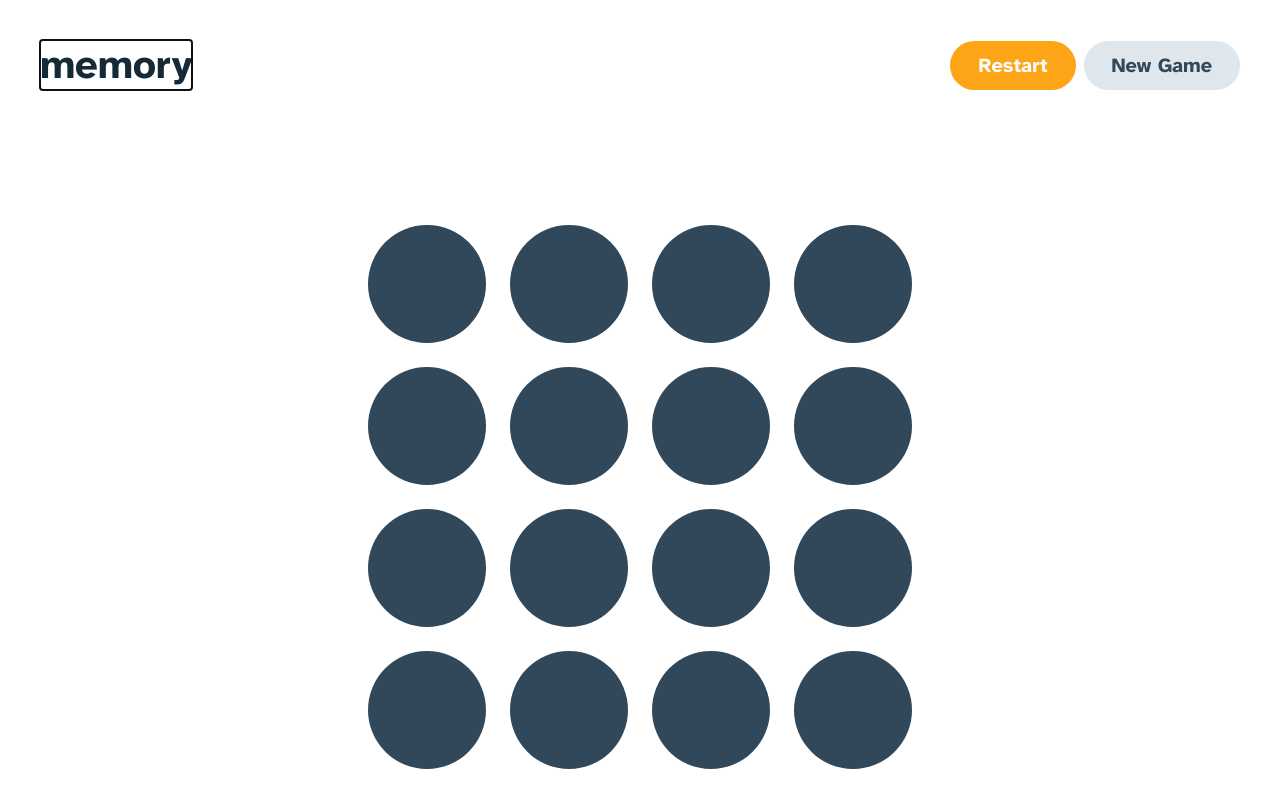
it: App (integration, real pages) › resets a flipped card back to hidden when Restart is clicked
The width and height of the screenshot is (1280, 800).
What coordinates should you click on to do the following:
click the button named "Card 1, hidden"
I would click on:
 (427, 284)
Its box is [368, 225, 486, 343].
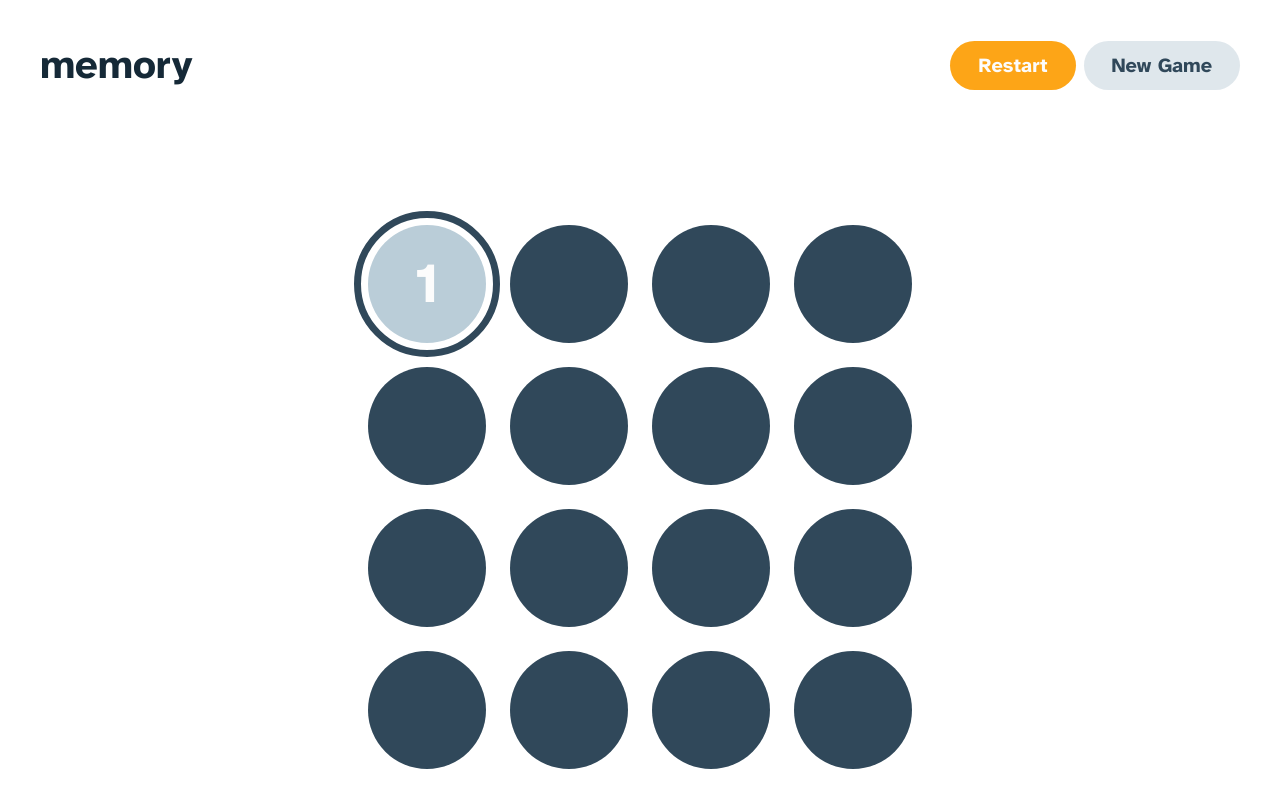
What coordinates should you click on to do the following:
click the button "Restart"
I would click on:
 (1013, 65)
Its box is [950, 40, 1076, 90].
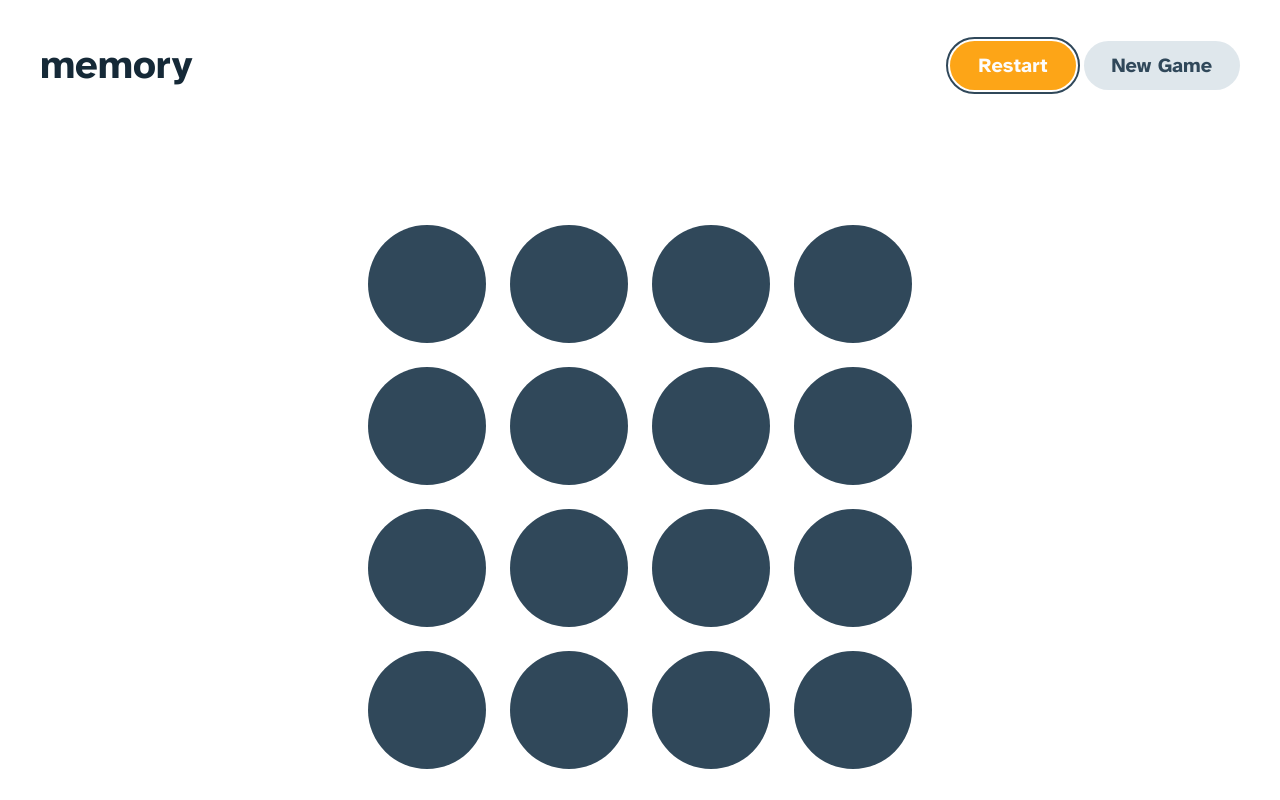
expect the button named "Card 1, hidden" is shown: met, box [368, 225, 486, 343]
